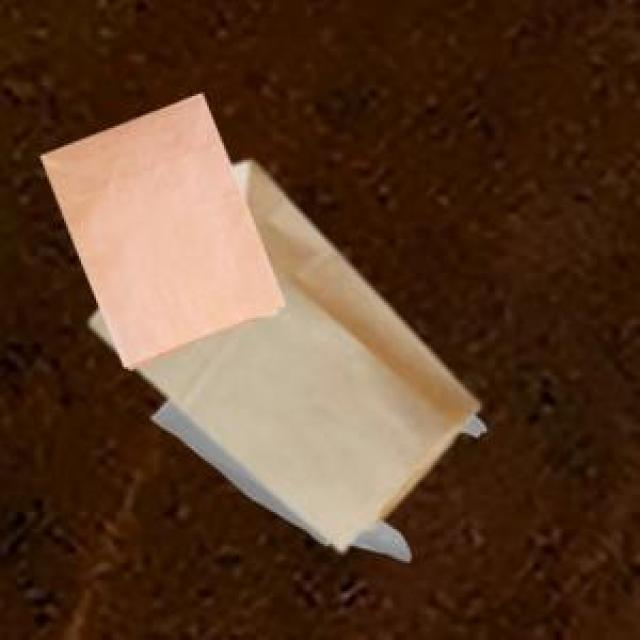paper: (88, 158, 476, 546), (36, 90, 280, 365)
